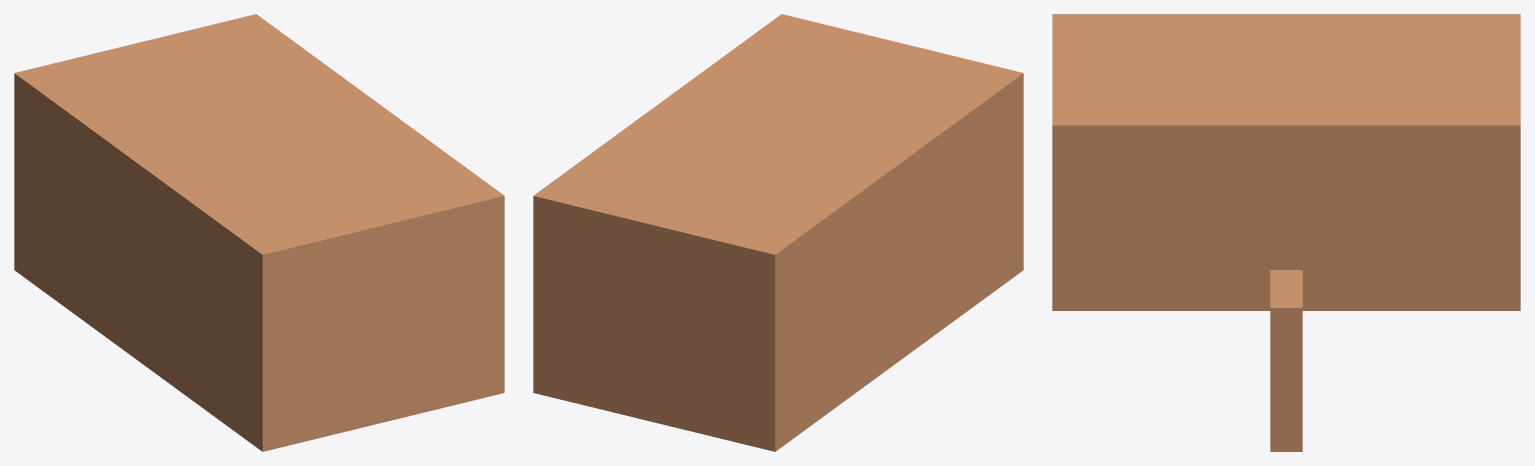
Rendered from enemy_rustcrawler.fbx.
3 views of the same model, side by side, from view 1: azimuth 30°, elevation 25°; view 2: azimuth 150°, elevation 25°; view 3: azimuth 270°, elevation 25° (orthographic). The views are drawn at different scales.
Visible parts, largest first — view 1: Rustcrawler_Body; view 2: Rustcrawler_Body; view 3: Rustcrawler_Body, Rustcrawler_Leg.
Part boxes in pixels (box(x1,y1,x2,y2)): Rustcrawler_Body: box(14, 14, 504, 451); Rustcrawler_Body: box(533, 14, 1023, 451); Rustcrawler_Body: box(1052, 14, 1520, 310); Rustcrawler_Leg: box(1270, 270, 1302, 451).
Bounding box in the file's own units: 241 × 218 × 320.
